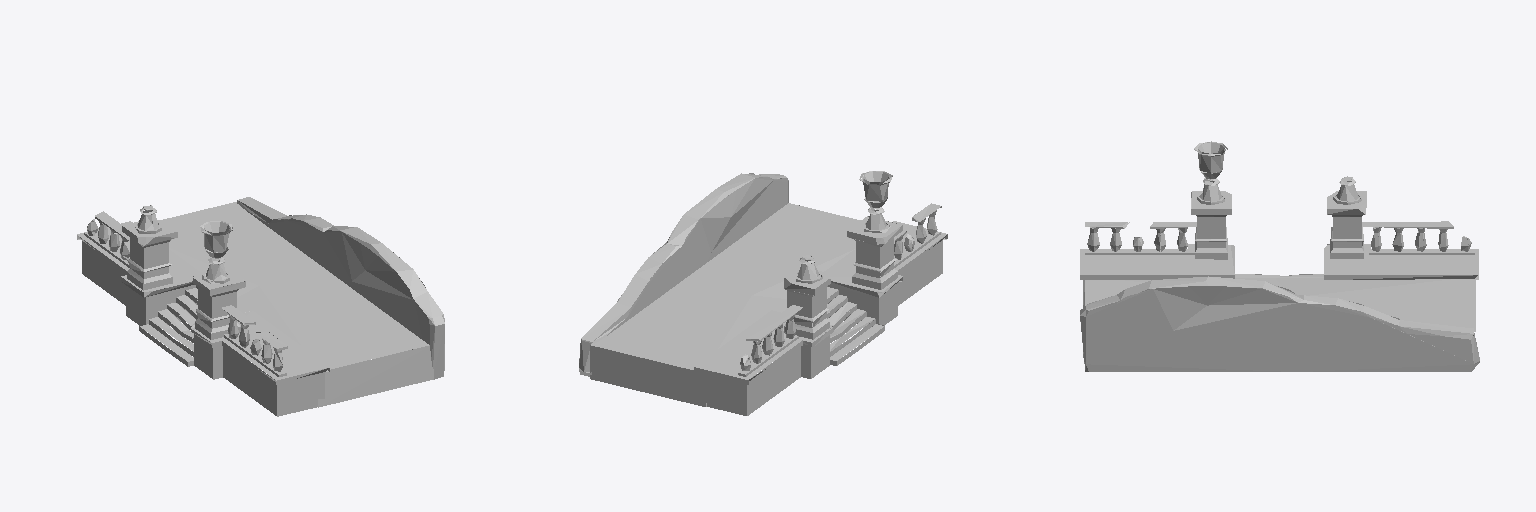
Rendered from LOD2_Platform.obj.
3 views of the same model, side by side, from view 1: azimuth 30°, elevation 25°; view 2: azimuth 150°, elevation 25°; view 3: azimuth 270°, elevation 25° (orthographic).
Parts seen in each view (by area): view 1: defaultMaterial.001_defaultMaterial.001; view 2: defaultMaterial.001_defaultMaterial.001; view 3: defaultMaterial.001_defaultMaterial.001.
Boxes of the visible parts, <box> form: defaultMaterial.001_defaultMaterial.001: <box>77,197,444,416</box>; defaultMaterial.001_defaultMaterial.001: <box>579,171,947,415</box>; defaultMaterial.001_defaultMaterial.001: <box>1080,141,1479,371</box>.
Size of the model in its own units: 1.09 by 0.8077 by 2.04.